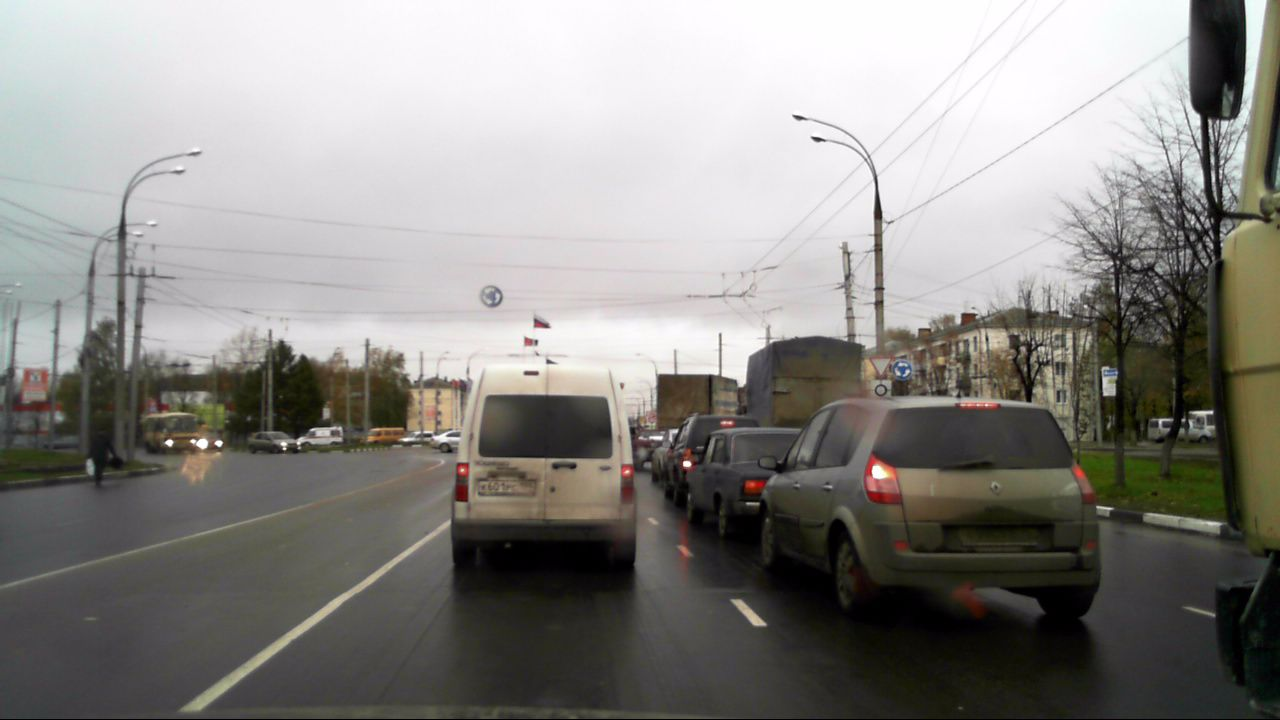Round-About: (479, 285, 503, 309)
